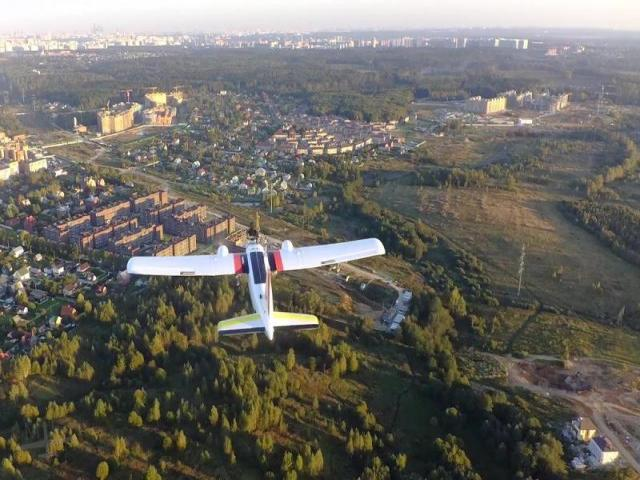hedef: (108, 224, 411, 356)
